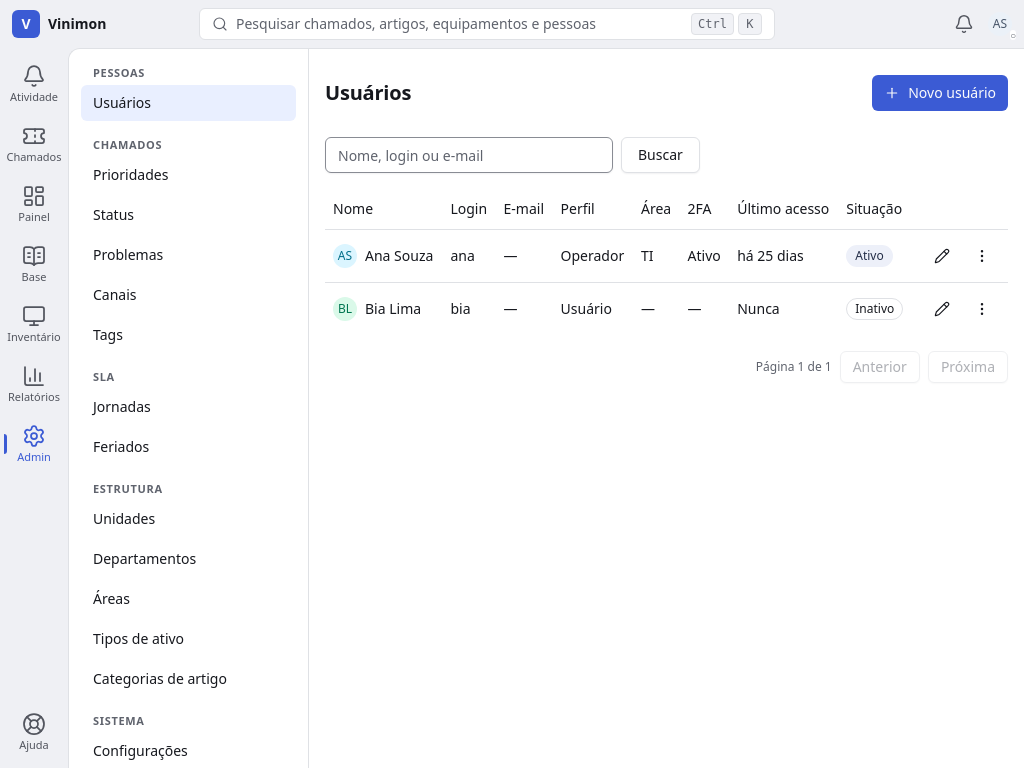
/admin/usuarios › (b) editar faz PATCH /usuarios/:id com o body esperado (campos apagados vão como null)
Click the button named "Editar Ana Souza" at [942, 256], box [924,238,960,274]
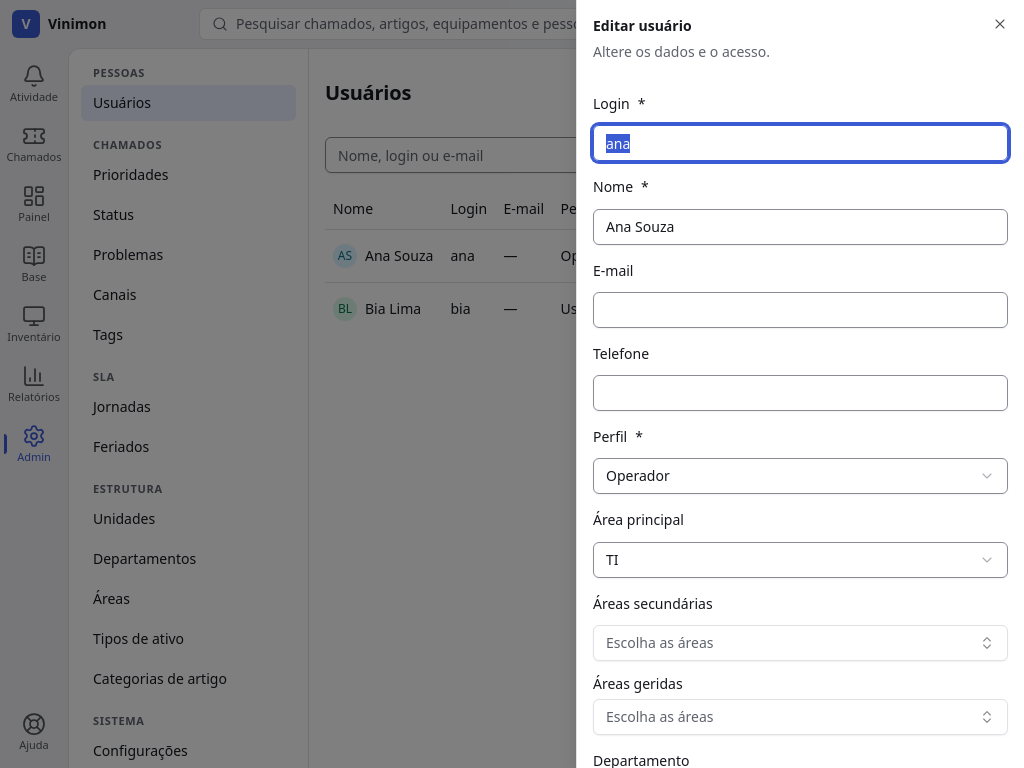
Expected: the field labelled "Nome *" holds "Ana Souza"
Replace the text in the field labelled "Nome *" with "Ana Maria" at [800, 226], box [593,208,1008,244]
(page scrolled)
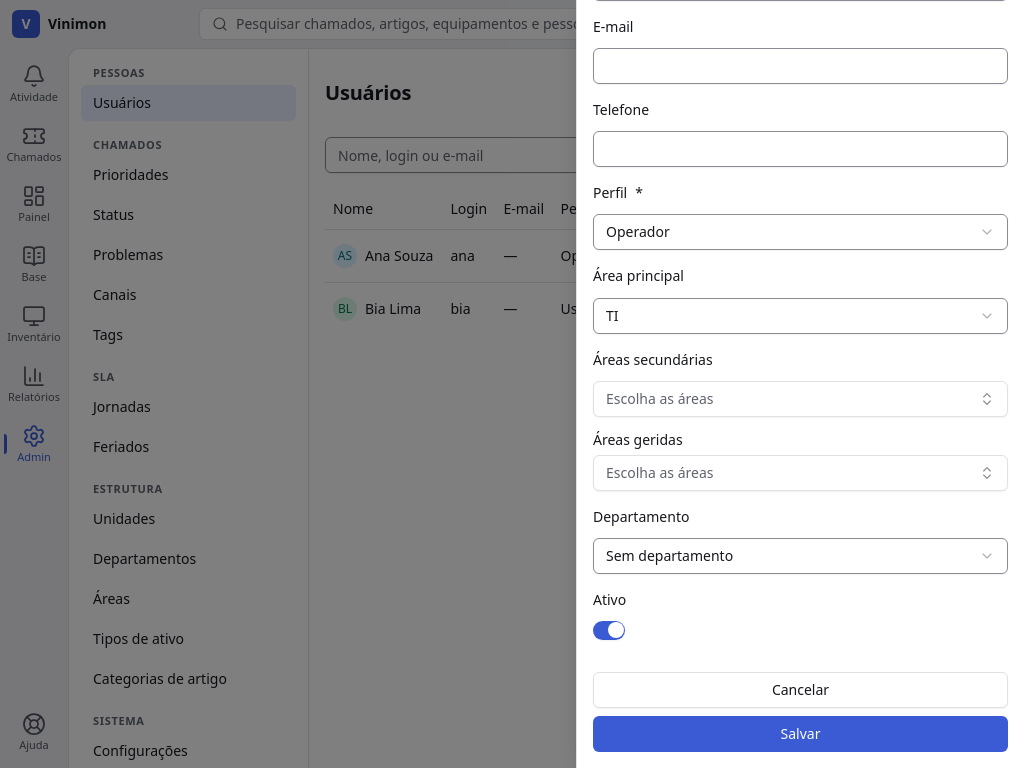
Click the button "Salvar" at [800, 734], box [593,716,1008,752]
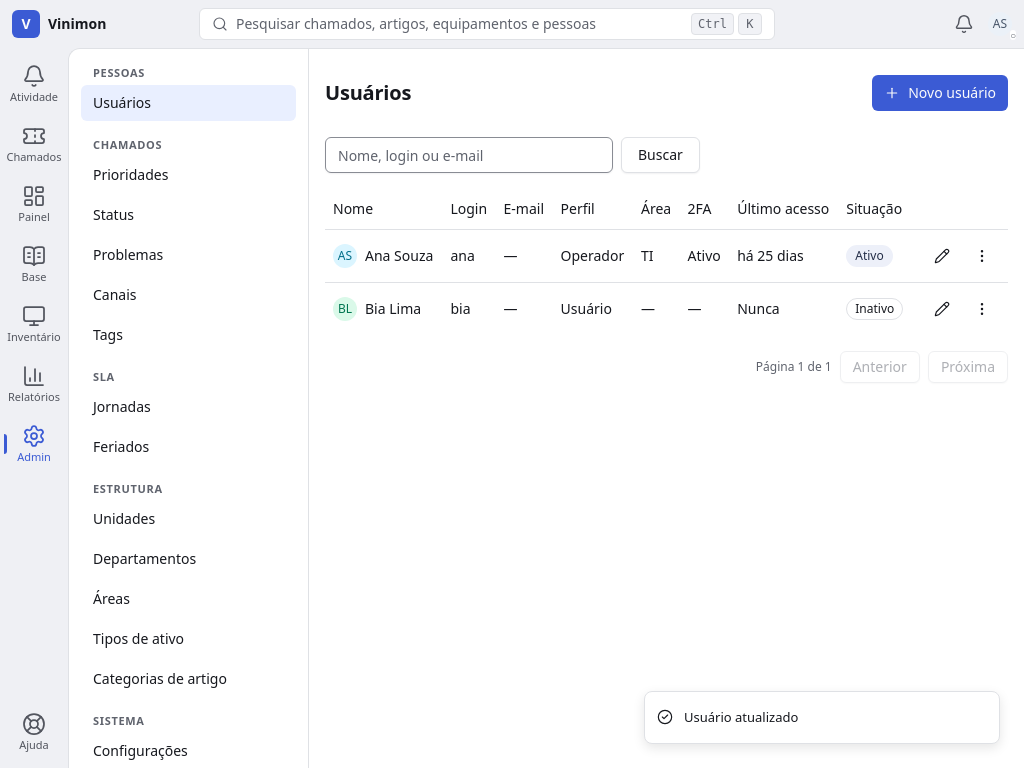
Expected: the text "Usuário atualizado" is shown, [684,708,798,727]
